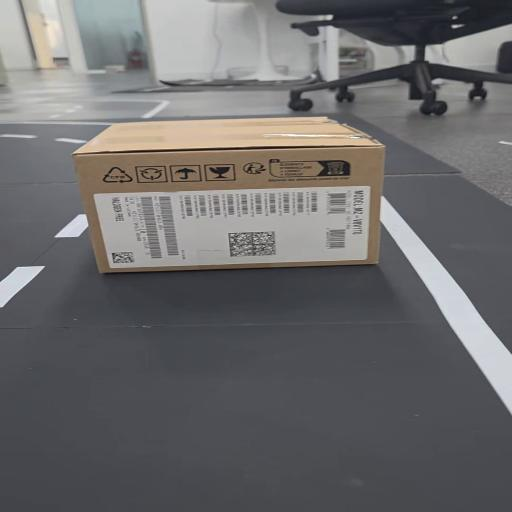Box: (72, 120, 388, 284)
